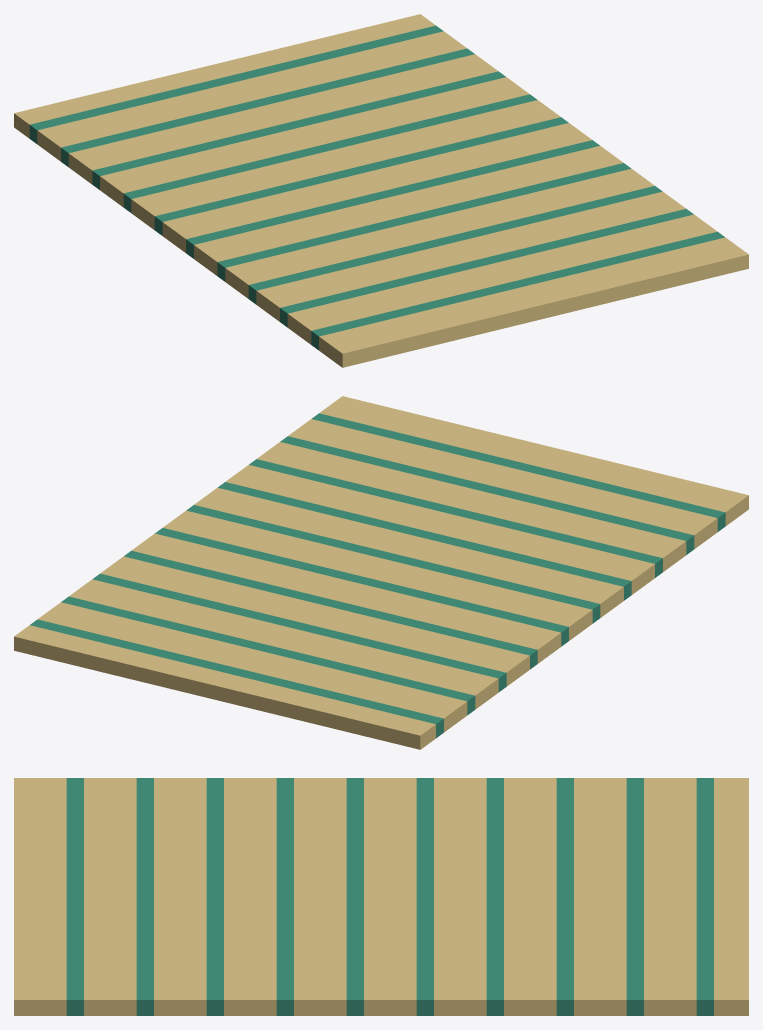
Rendered from Paper00.gltf.
3 views of the same model, one above another, from view 1: azimuth 30°, elevation 25°; view 2: azimuth 150°, elevation 25°; view 3: azimuth 270°, elevation 25° (orthographic). The views are drawn at different scales.
Visible parts, largest first — view 1: Layer.1; view 2: Layer.1; view 3: Layer.1.
Part boxes in pixels (left/top/right/bottom): Layer.1: left=14, top=14, right=748, bottom=367; Layer.1: left=14, top=396, right=748, bottom=749; Layer.1: left=14, top=778, right=748, bottom=1015.
Size of the model in its own units: 30 by 1 by 42.
